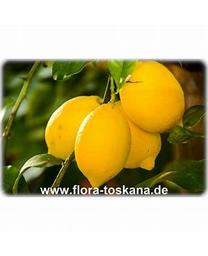lemon: (120, 61, 187, 132), (76, 107, 132, 187), (45, 97, 104, 159)
